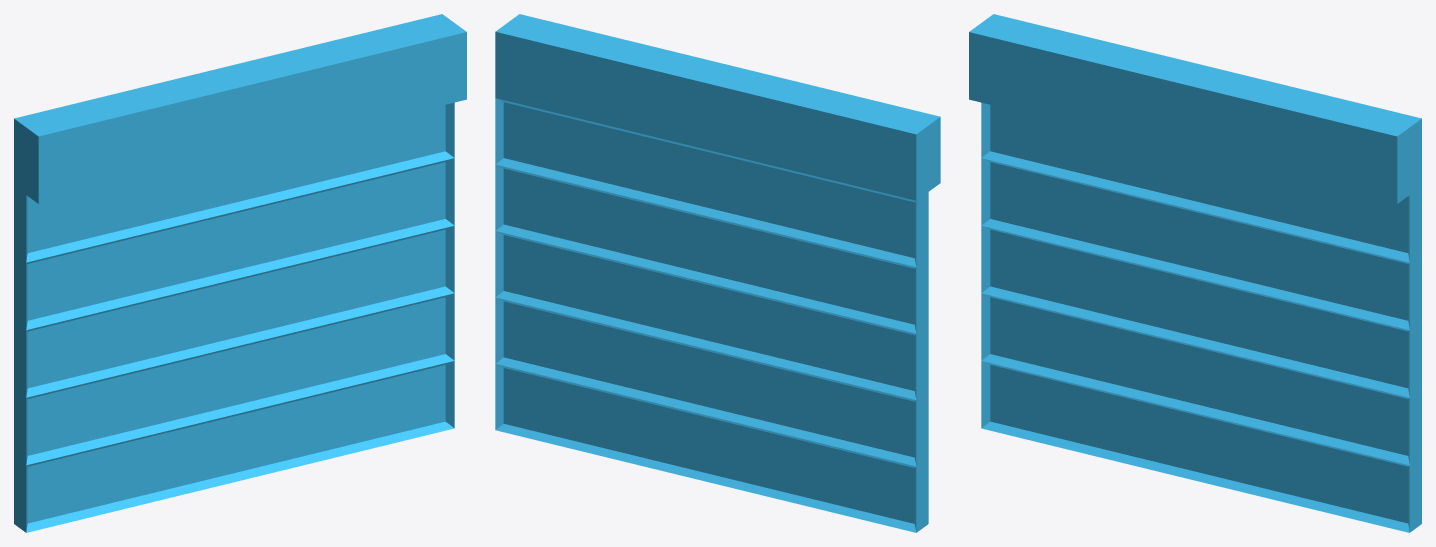
3 views of the same model, side by side, from view 1: azimuth 30°, elevation 25°; view 2: azimuth 150°, elevation 25°; view 3: azimuth 330°, elevation 25° (orthographic).
Bounding box in the file's own units: 2649 × 2396 × 264.
